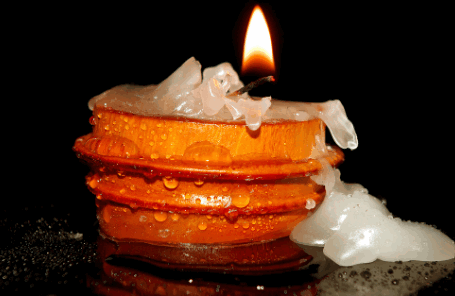Fire: (233, 1, 301, 75)
